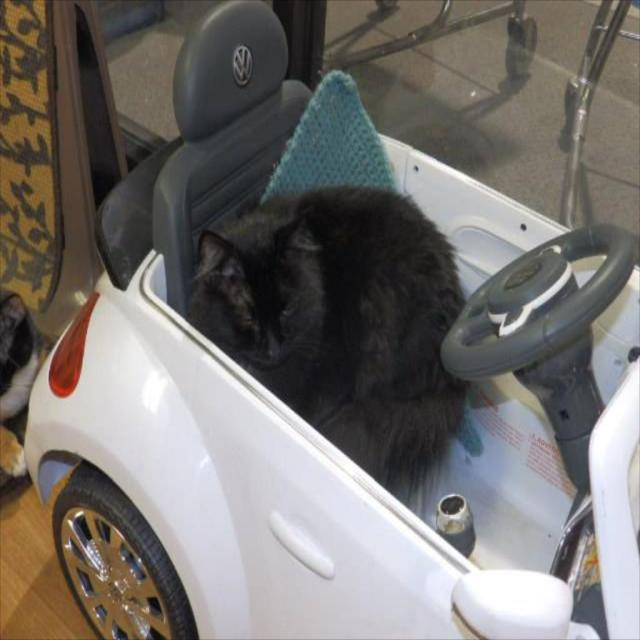car: (23, 0, 638, 633)
